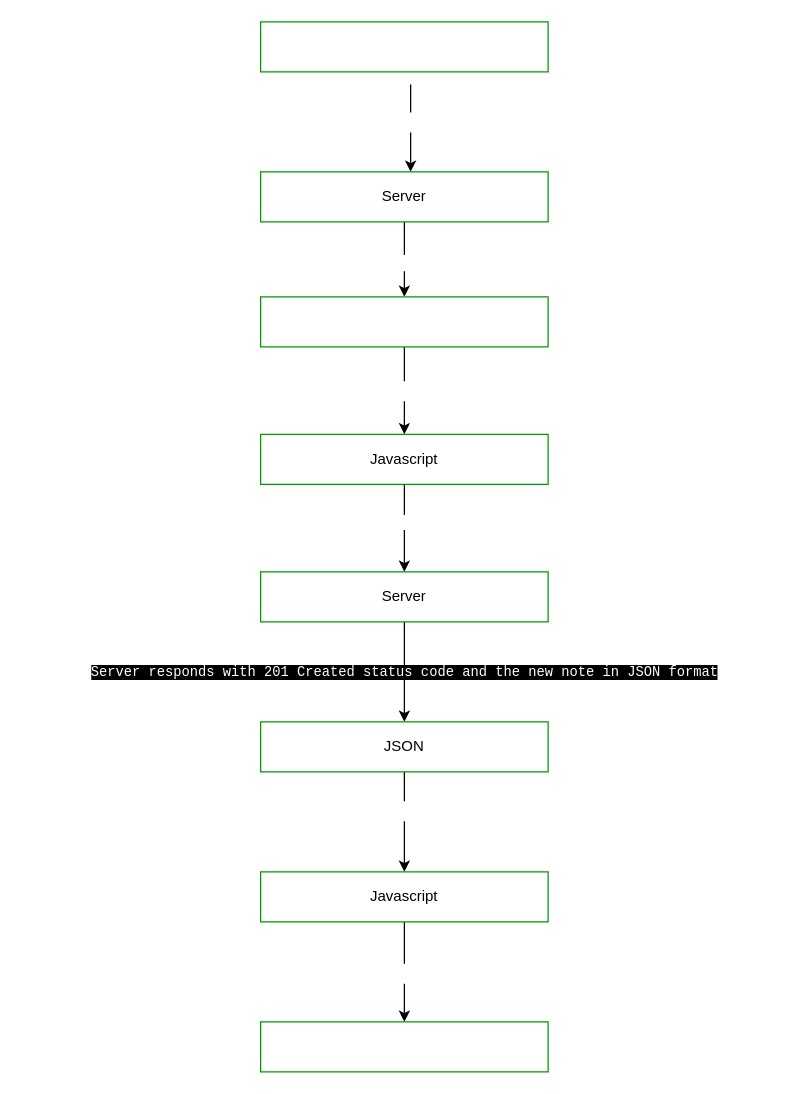
The diagram is 810 pixels wide and 1094 high, and some of its shapes have lost their labels. Each missing label, with the centre of its shape:
"HTML" goes at [403,321].
"Rendered UI" goes at [403,1046].
"Web browser" goes at [403,46].
